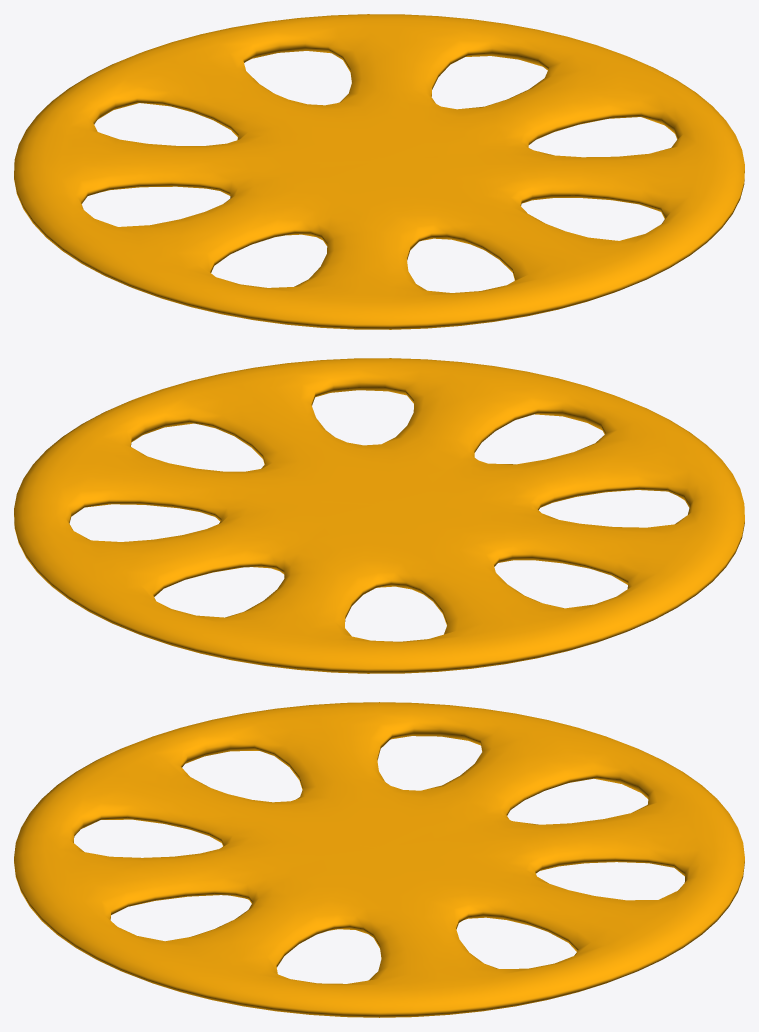
The model's file is Town_16_Carpet_1.glb.
3 views of the same model, one above another, from view 1: azimuth 30°, elevation 25°; view 2: azimuth 150°, elevation 25°; view 3: azimuth 270°, elevation 25° (orthographic).
Parts seen in each view (by area): view 1: Town_16_Carpet_1; view 2: Town_16_Carpet_1; view 3: Town_16_Carpet_1.
Boxes of the visible parts, bbox=[...] form: Town_16_Carpet_1: bbox=[14, 14, 744, 329]; Town_16_Carpet_1: bbox=[14, 358, 744, 673]; Town_16_Carpet_1: bbox=[14, 702, 744, 1017].
Bounding box in the file's own units: 2.06 × 0.0708 × 2.06.
1 material, 1 textured.
